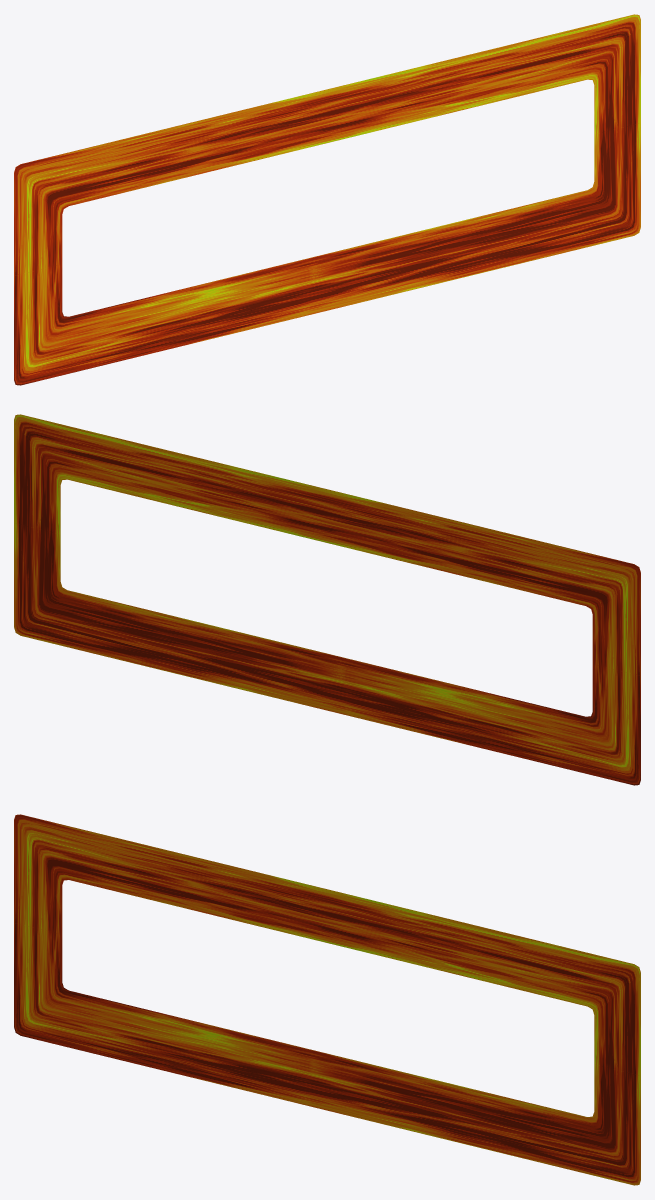
The model's file is FX_lfl_UI_rewukuang001.FBX.
The picture shows the model from 3 angles, top to bottom: view 1: azimuth 30°, elevation 25°; view 2: azimuth 150°, elevation 25°; view 3: azimuth 330°, elevation 25°; orthographic projection.
Visible parts, largest first — view 1: Rectangle004; view 2: Rectangle004; view 3: Rectangle004.
Boxes of the visible parts, x1,y1,x2,y2 form: Rectangle004: (14, 14, 640, 385); Rectangle004: (14, 414, 640, 785); Rectangle004: (14, 814, 640, 1185).
Bounding box in the file's own units: 216 × 72.92 × 1.26e-05.
1 material, 1 textured.
